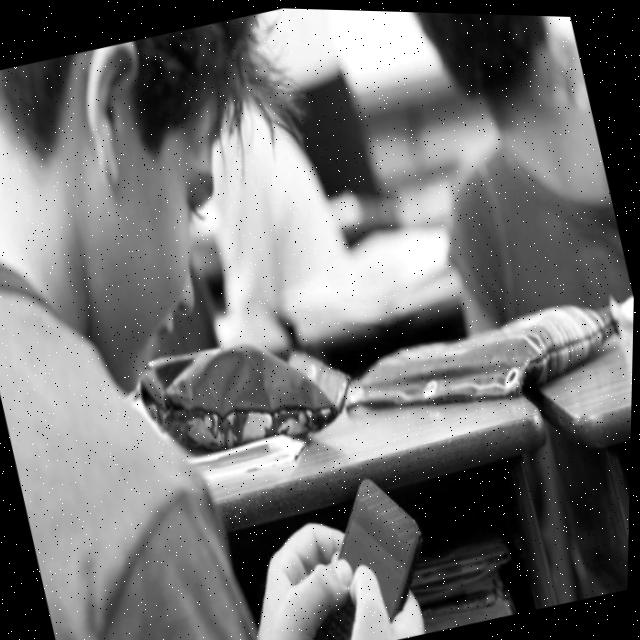phone: (274, 461, 448, 640)
